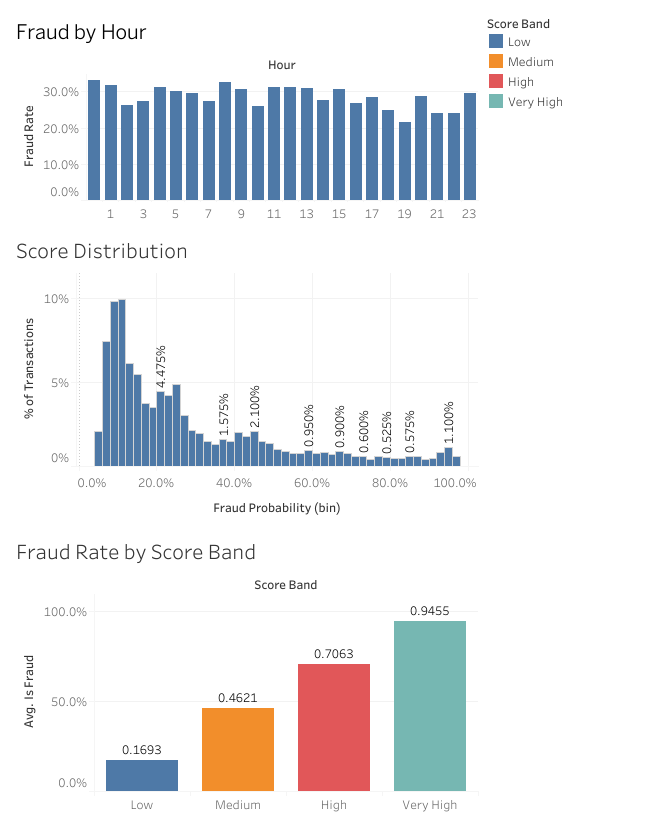

The page's visual inventory and layout, read from the dashboard file:
{"tool":"tableau","page":{"name":"Fraud Risk Dashboard","canvas":[650,860],"ordinal":0},"visuals":[{"type":"worksheet","title":"Fraud by Hour","mark":"Automatic","rows":["Calculation_4808225921847586817"],"cols":["hour"],"box":[8,9.1,474,226.7]},{"type":"legend","title":"Fraud Rate by Score Band","param":"[federated.03mcne818s7ofi1b9akir0jnqvab].[none:Calculation_4808225921848741891:n","box":[482,9.1,160,120.1]},{"type":"worksheet","title":"Score Distribution","mark":"Automatic","rows":["proba_fraud"],"cols":["Fraud Probability (bin)"],"box":[8,235.7,474,313.4]},{"type":"worksheet","title":"Fraud Rate by Score Band","mark":"Automatic","rows":["is_fraud"],"cols":["Calculation_4808225921848741891"],"box":[8,549.1,474,301.8]}]}

Visuals, with their boxes on the page's 650x860 design canvas (x1, y1, x2, y2). These are canvas units, not pixel positions in the 649x824 screenshot, which may show the page scaled, cropped or inside an application window:
"Fraud by Hour" worksheet: bbox(8, 9, 482, 236)
"Fraud Rate by Score Band" legend: bbox(482, 9, 642, 129)
"Score Distribution" worksheet: bbox(8, 236, 482, 549)
"Fraud Rate by Score Band" worksheet: bbox(8, 549, 482, 851)
